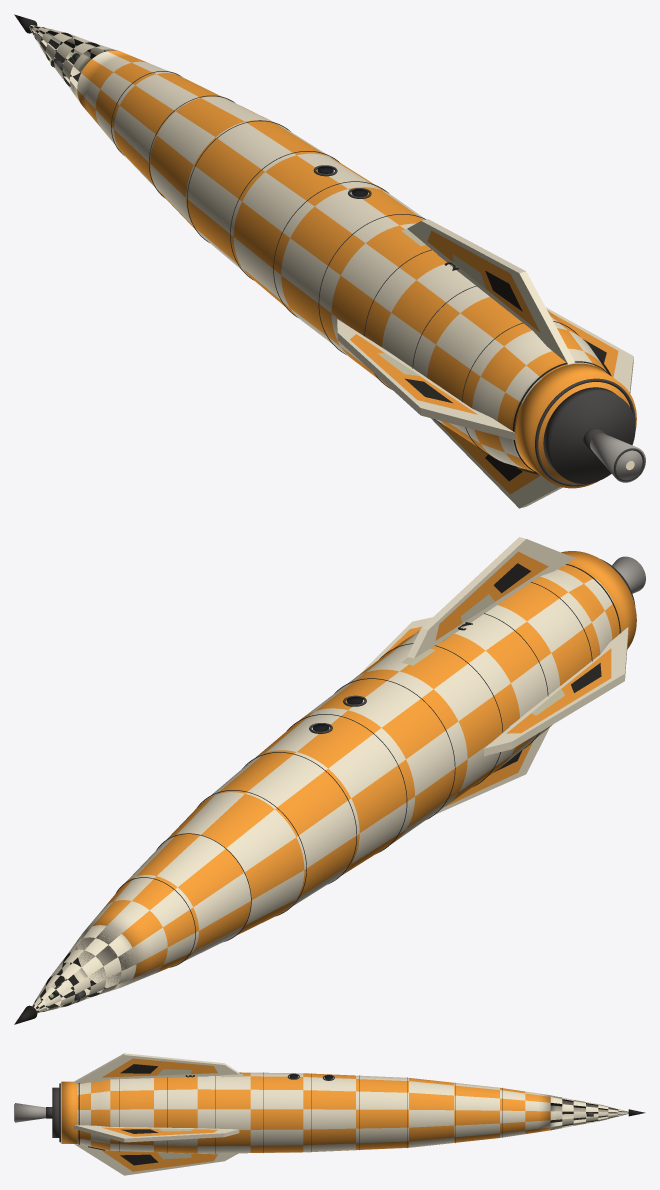
Rendered from Ship_LunarCourier_993089.glb.
3 views of the same model, one above another, from view 1: azimuth 30°, elevation 25°; view 2: azimuth 150°, elevation 25°; view 3: azimuth 270°, elevation 25° (orthographic). The views are drawn at different scales.
Parts seen in each view (by area): view 1: Fuselage_TaperedPaintedBody, EngineDeck_AftDarkMountPlate, AftCollar_PrimaryEngineBand, TailFin_Dorsal_slender_CreamAerofoil, TailFin_Left_slender_CreamAerofoil, NoseCone_PaintedNeedleSection, TailFinPanel_Dorsal_PrimarySide_A, EngineBell_Main_BurnishedNozzle, TailFinPanel_Left_PrimarySide_B, TailFin_Ventral_slender_CreamAerofoil, TailFinPanel_Ventral_PrimarySide_B, AftTrimRing_DarkRear (+1 smaller); view 2: Fuselage_TaperedPaintedBody, NoseCone_PaintedNeedleSection, TailFin_Dorsal_slender_CreamAerofoil, TailFin_Left_slender_CreamAerofoil, AftCollar_PrimaryEngineBand, TailFinPanel_Dorsal_PrimarySide_A, TailFinPanel_Left_PrimarySide_B, TailFin_Ventral_slender_CreamAerofoil, TailFinPanel_Ventral_PrimarySide_B, EngineBell_Main_BurnishedNozzle; view 3: Fuselage_TaperedPaintedBody, NoseCone_PaintedNeedleSection, TailFin_Dorsal_slender_CreamAerofoil, TailFin_Right_slender_CreamAerofoil, TailFinPanel_Ventral_PrimarySide_A, AftCollar_PrimaryEngineBand, TailFinPanel_Dorsal_PrimarySide_B, TailFin_Ventral_slender_CreamAerofoil, TailFinPanel_Right_PrimarySide_A, EngineBell_Main_BurnishedNozzle, EngineDeck_AftDarkMountPlate, TailFinCheckerPatch_Ventral_01_A (+2 smaller).
Part boxes in pixels (x1,y1,x2,y2): Fuselage_TaperedPaintedBody: (77, 50, 606, 471); EngineDeck_AftDarkMountPlate: (543, 387, 635, 483); AftCollar_PrimaryEngineBand: (515, 363, 636, 488); TailFin_Dorsal_slender_CreamAerofoil: (407, 219, 575, 364); TailFin_Left_slender_CreamAerofoil: (337, 319, 514, 439); NoseCone_PaintedNeedleSection: (29, 25, 118, 101); TailFinPanel_Dorsal_PrimarySide_A: (427, 230, 540, 332); EngineBell_Main_BurnishedNozzle: (590, 433, 645, 482); TailFinPanel_Left_PrimarySide_B: (350, 334, 477, 414); TailFin_Ventral_slender_CreamAerofoil: (431, 418, 562, 508); TailFinPanel_Ventral_PrimarySide_B: (437, 421, 540, 494); AftTrimRing_DarkRear: (535, 378, 635, 486); Fuselage_TaperedPaintedBody: (77, 563, 620, 988); NoseCone_PaintedNeedleSection: (32, 925, 136, 1013); TailFin_Dorsal_slender_CreamAerofoil: (407, 537, 574, 658); TailFin_Left_slender_CreamAerofoil: (484, 627, 628, 756); AftCollar_PrimaryEngineBand: (561, 551, 636, 649); TailFinPanel_Dorsal_PrimarySide_A: (435, 551, 548, 640); TailFinPanel_Left_PrimarySide_B: (506, 648, 611, 733); TailFin_Ventral_slender_CreamAerofoil: (431, 727, 549, 816); TailFinPanel_Ventral_PrimarySide_B: (445, 742, 532, 806); EngineBell_Main_BurnishedNozzle: (612, 556, 645, 593); Fuselage_TaperedPaintedBody: (77, 1072, 550, 1153); NoseCone_PaintedNeedleSection: (550, 1095, 628, 1130); TailFin_Dorsal_slender_CreamAerofoil: (74, 1053, 239, 1083); TailFin_Right_slender_CreamAerofoil: (74, 1125, 239, 1142); TailFinPanel_Ventral_PrimarySide_A: (102, 1150, 217, 1171); AftCollar_PrimaryEngineBand: (61, 1081, 77, 1143); TailFinPanel_Dorsal_PrimarySide_B: (102, 1058, 217, 1077); TailFin_Ventral_slender_CreamAerofoil: (74, 1144, 238, 1175); TailFinPanel_Right_PrimarySide_A: (102, 1127, 217, 1136); EngineBell_Main_BurnishedNozzle: (15, 1103, 45, 1122); EngineDeck_AftDarkMountPlate: (52, 1087, 59, 1137); TailFinCheckerPatch_Ventral_01_A: (120, 1154, 158, 1165).
Size of the model in its own units: 2.4 by 2.53 by 12.03.
